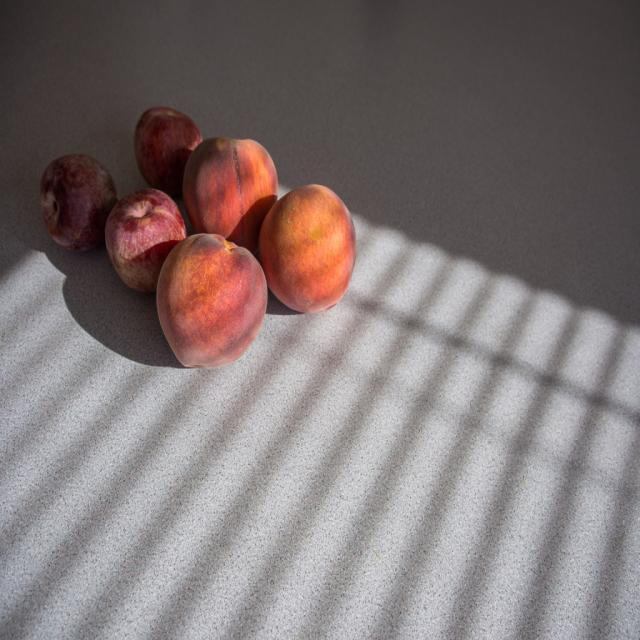Peach: (40, 106, 356, 372), (264, 184, 362, 318)
